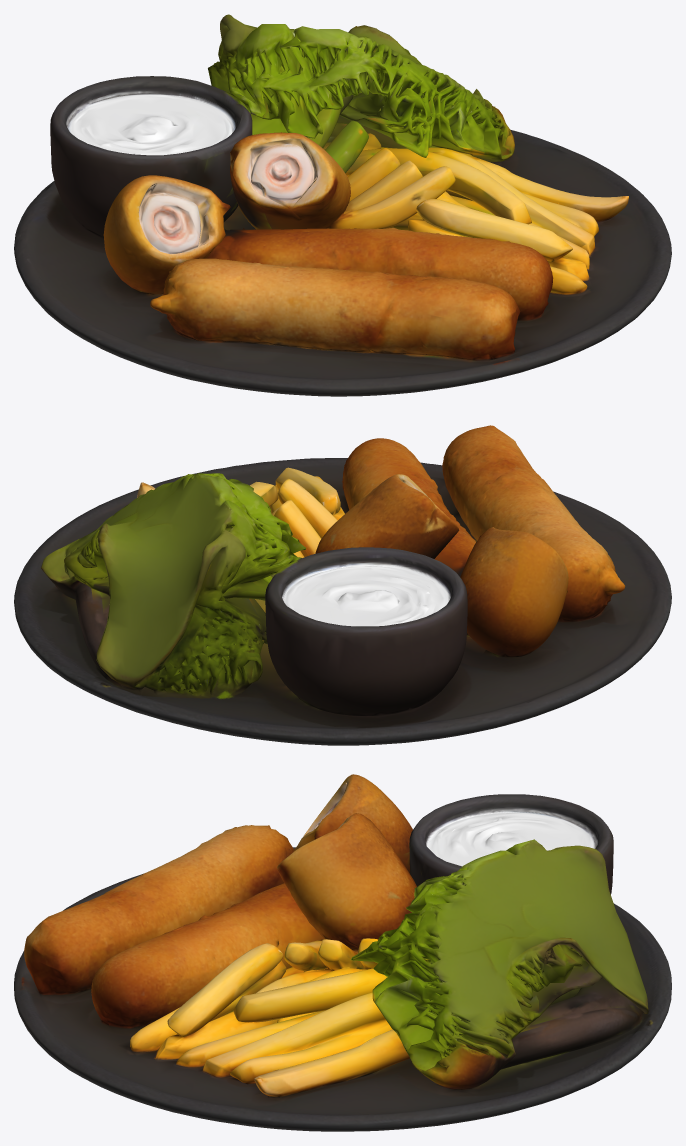
The model's file is Flamenquin.fbx.
3 views of the same model, one above another, from view 1: azimuth 30°, elevation 25°; view 2: azimuth 150°, elevation 25°; view 3: azimuth 270°, elevation 25° (orthographic).
Parts seen in each view (by area): view 1: Mesh_0; view 2: Mesh_0; view 3: Mesh_0.
Part boxes in pixels (x1,y1,x2,y2): Mesh_0: (14, 14, 671, 396); Mesh_0: (14, 425, 671, 745); Mesh_0: (14, 774, 671, 1131).
Bounding box in the file's own units: 115 × 34.87 × 115.
Materials: 1 (1 with a texture image).
